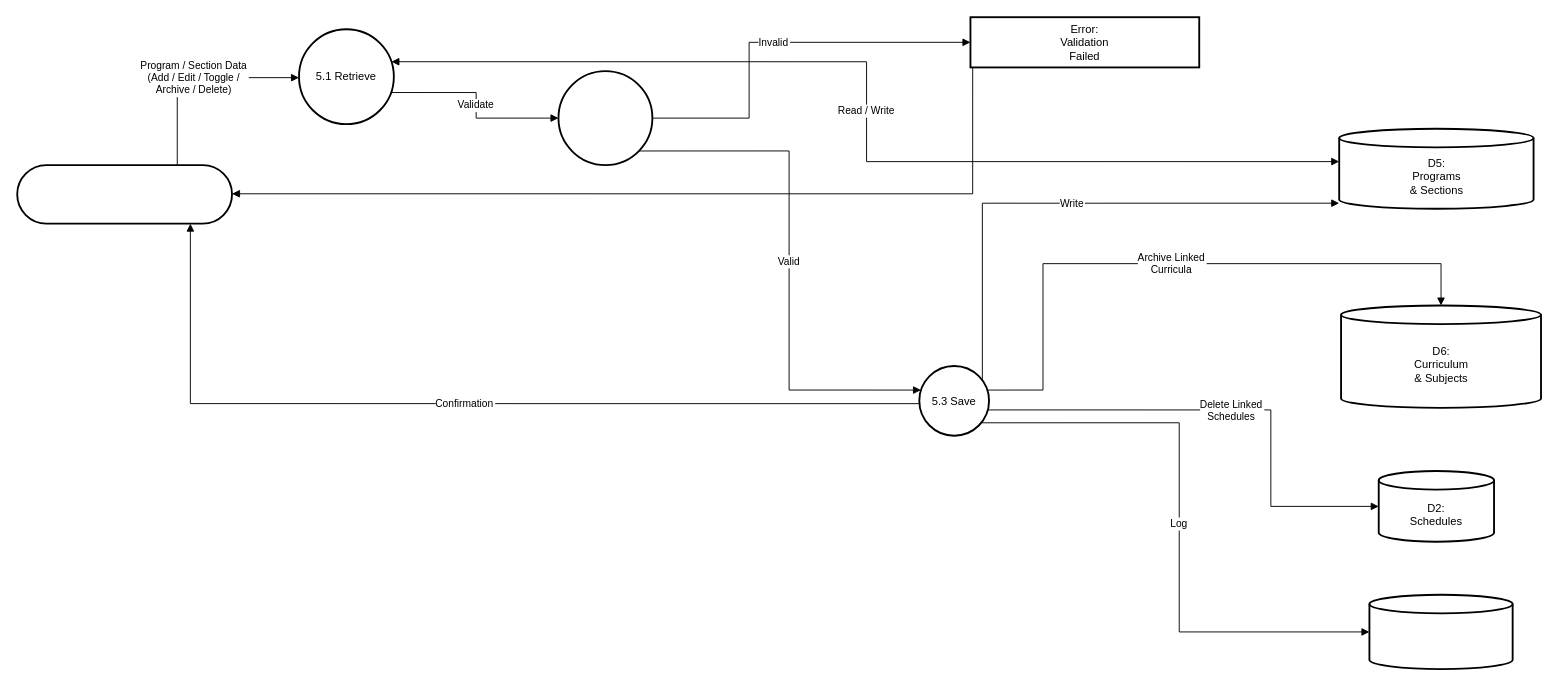
Some shapes in this 1558 by 685 pixel diagram are drawn without their labels. Each missing label, with the box of its shape:
5.2 Validate: (557, 70, 653, 166)
Admin / Super Admin / Dean: (16, 164, 232, 224)
D8: Activity Logs: (1368, 593, 1513, 670)
